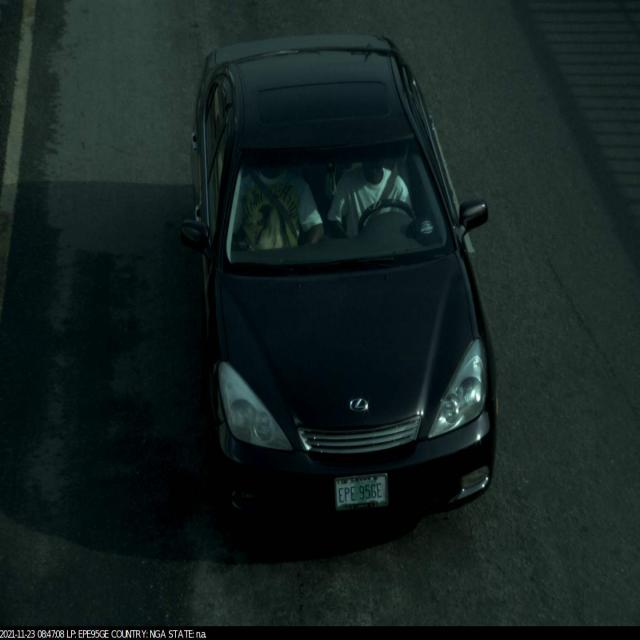windshield: (205, 117, 452, 279)
